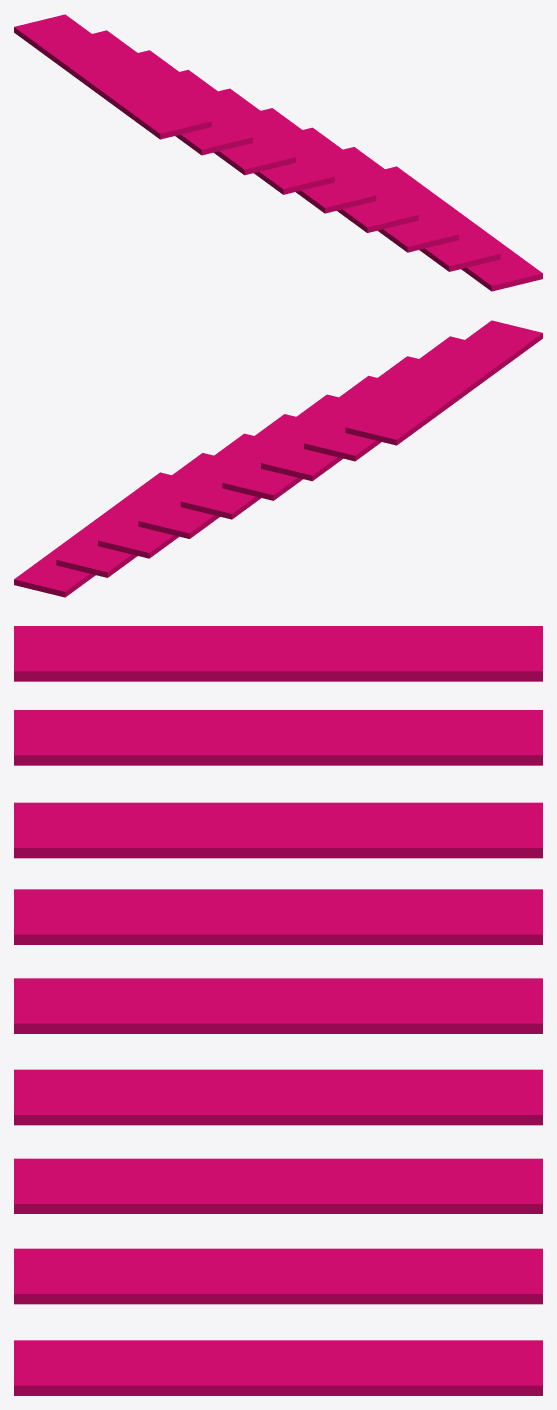
File: Metal_Stairs_05.fbx
The picture shows the model from 3 angles, top to bottom: view 1: azimuth 30°, elevation 25°; view 2: azimuth 150°, elevation 25°; view 3: azimuth 270°, elevation 25°; orthographic projection. The views are drawn at different scales.
Visible parts, largest first — view 1: Metal_Stairs_05; view 2: Metal_Stairs_05; view 3: Metal_Stairs_05.
Boxes of the visible parts, x1=… form: Metal_Stairs_05: x1=14, y1=14, x2=542, y2=291; Metal_Stairs_05: x1=14, y1=320, x2=542, y2=597; Metal_Stairs_05: x1=14, y1=626, x2=542, y2=1395.
Size of the model in its own units: 226 by 135 by 150.
